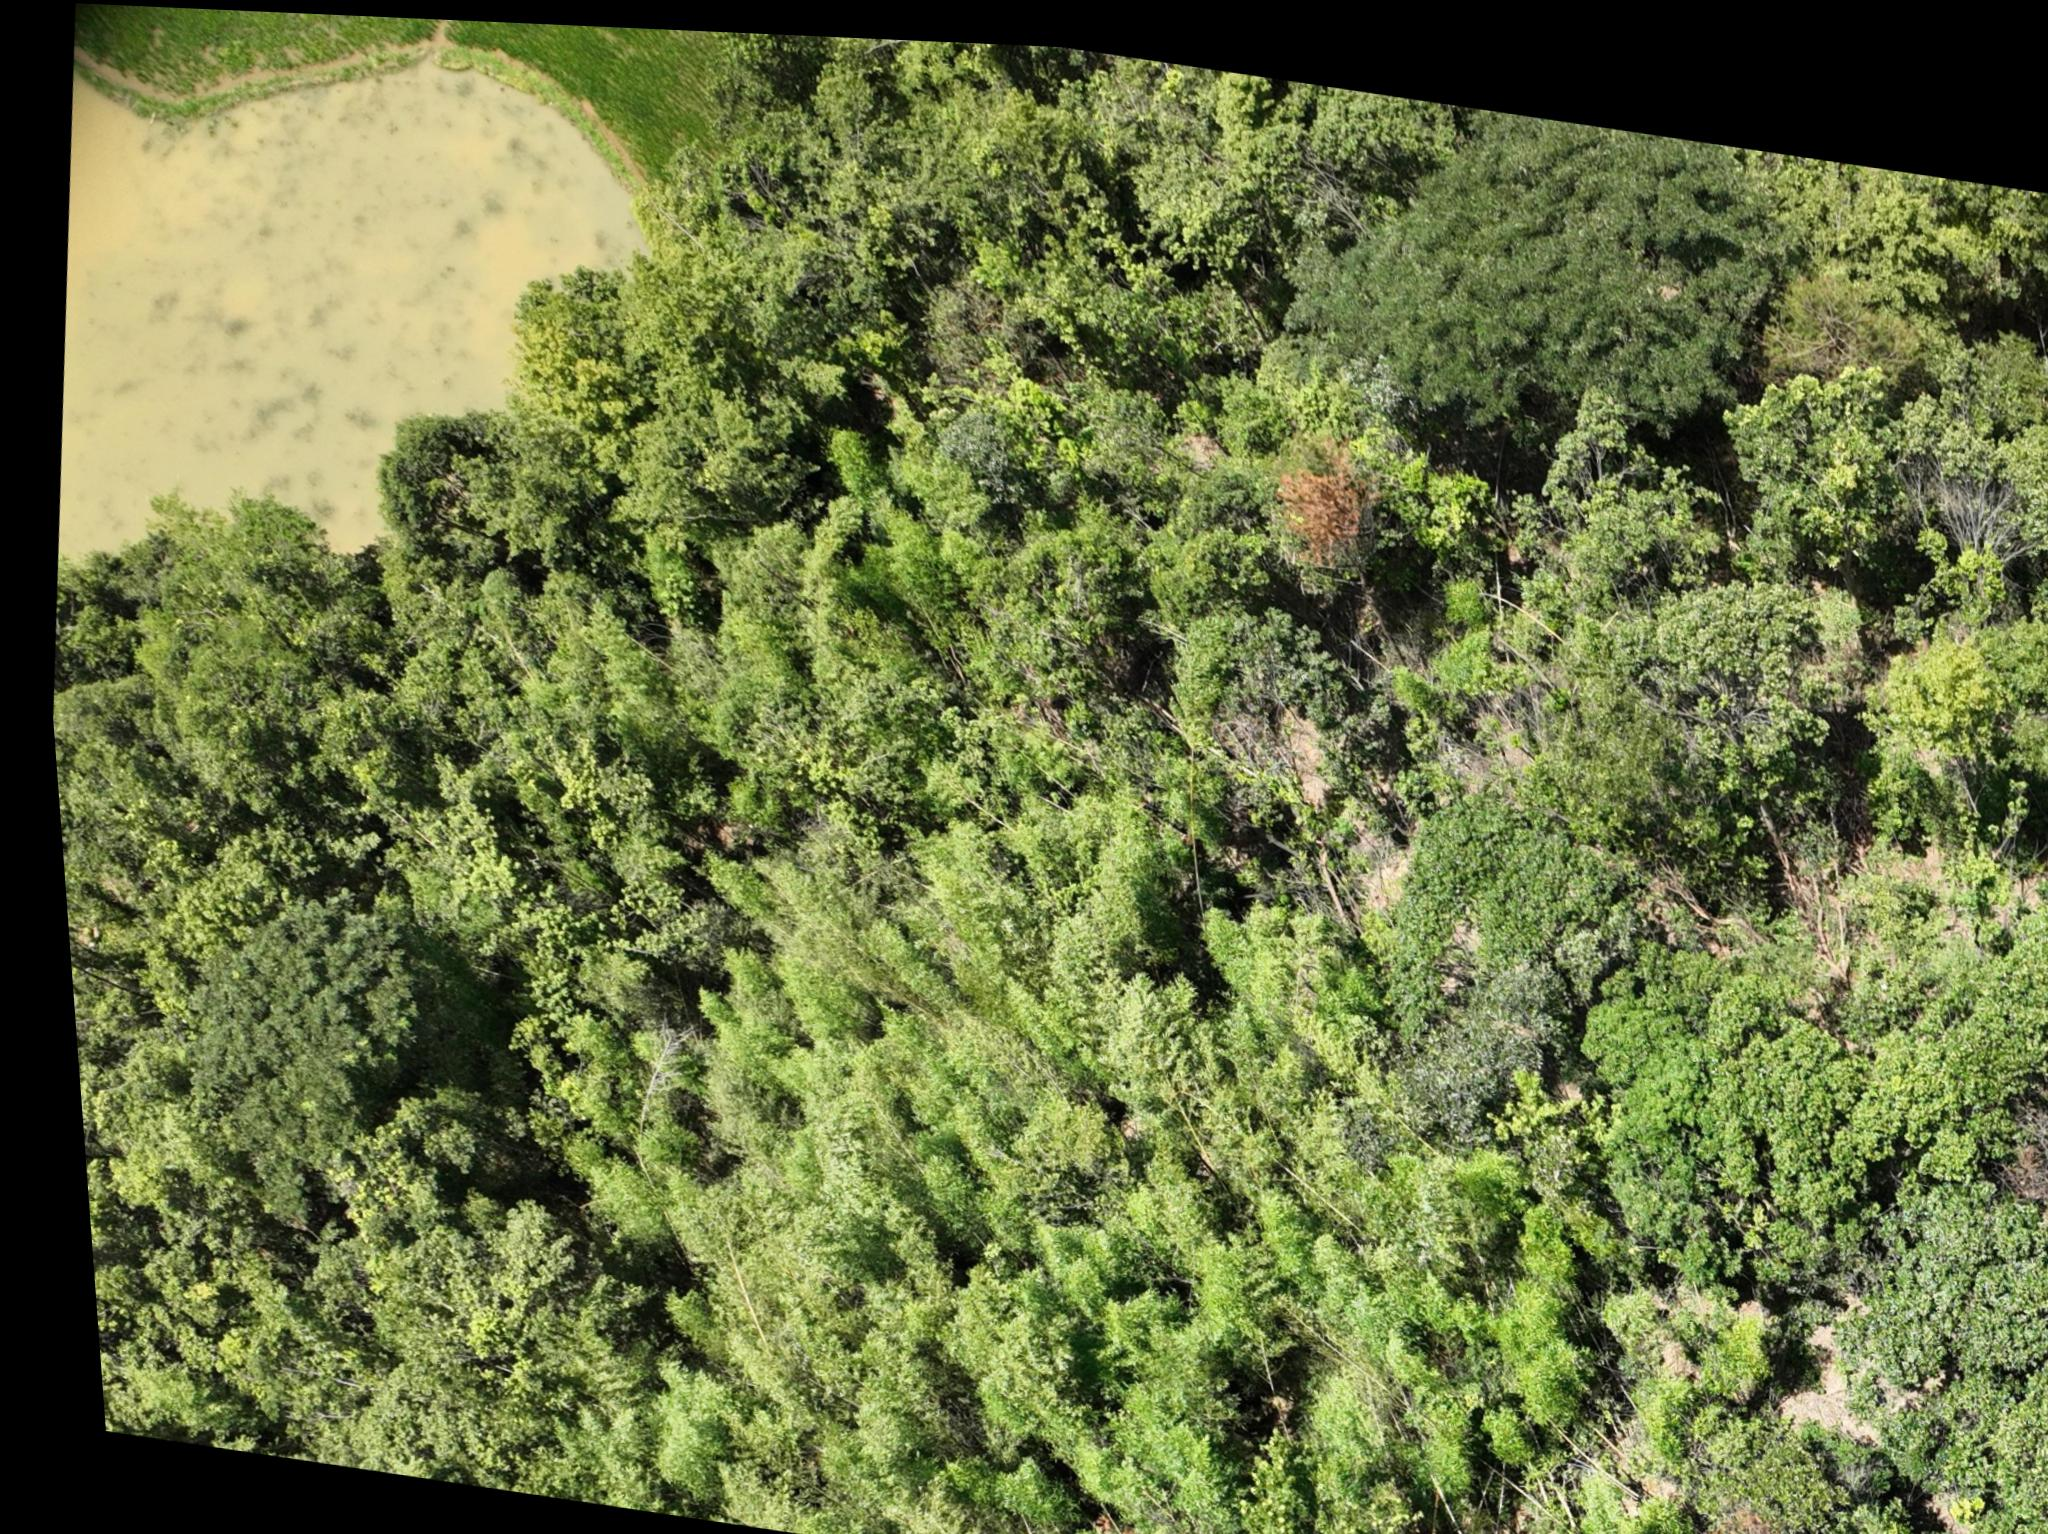heavy: (1258, 448, 1363, 566), (1573, 1486, 1811, 1534)
